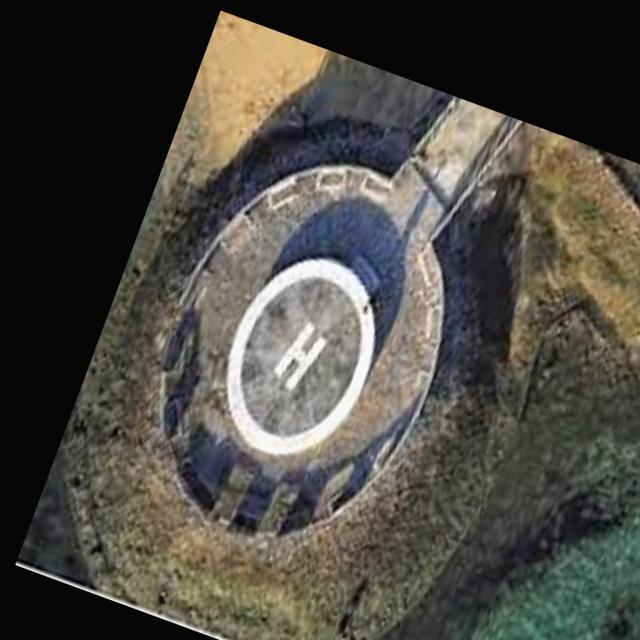helipad: (218, 250, 380, 460)
